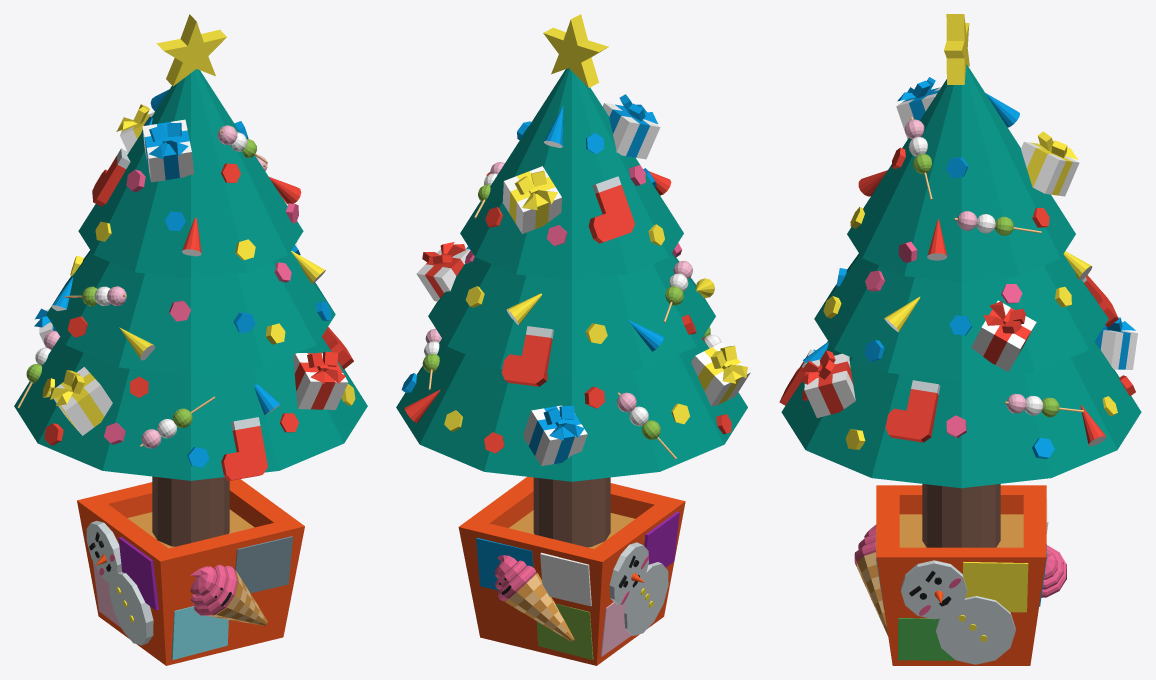
Rendered from ChristmasTree.glb.
3 views of the same model, side by side, from view 1: azimuth 30°, elevation 25°; view 2: azimuth 150°, elevation 25°; view 3: azimuth 270°, elevation 25° (orthographic). The views are drawn at different scales.
Visible parts, largest first — view 1: group725922255, group987213992, group1193288883, group291497226, group881572092, group1598876137, group1597435761, group1786306442, group3860199, group1273804421, group1347120944, group1821789698 (+11 smaller); view 2: group725922255, group1193288883, group987213992, group291497226, group881572092, group1473821169, group1786306442, group749976998, group2000852527, group1469657308, group910624471, group394431191 (+12 smaller); view 3: group725922255, group987213992, group1193288883, group291497226, group881572092, group2114687780, group37787, group1666232125, group1762033674, group1821789698, group1469657308, group188353618 (+10 smaller).
Part boxes in pixels (x1,y1,x2,y2): group725922255: (14,337,367,480); group987213992: (78,69,303,278); group1193288883: (46,250,335,375); group291497226: (77,479,304,665); group881572092: (152,476,229,546); group1598876137: (190,564,267,625); group1597435761: (235,536,292,593); group1786306442: (156,14,226,86); group3860199: (171,606,228,659); group1273804421: (109,572,153,645); group1347120944: (221,417,267,480); group1821789698: (293,353,348,409); group725922255: (396,338,747,481); group1193288883: (428,253,715,376); group987213992: (460,68,683,280); group291497226: (458,476,685,665); group881572092: (533,477,610,547); group1473821169: (495,555,574,641); group1786306442: (543,14,608,87); group749976998: (523,405,587,466); group2000852527: (501,326,553,386); group1469657308: (502,166,561,233); group910624471: (540,552,591,606); group394431191: (588,176,634,243); group725922255: (781,341,1141,488); group987213992: (847,64,1075,282); group1193288883: (814,253,1108,380); group291497226: (876,485,1046,665); group881572092: (922,484,1000,547); group2114687780: (936,596,1015,664); group37787: (963,562,1028,612); group1666232125: (901,560,967,619); group1762033674: (885,380,940,442); group1821789698: (804,353,855,417); group1469657308: (1021,141,1079,196); group188353618: (971,300,1036,371).
Size of the model in its own units: 0.4904 by 0.9294 by 0.4899.
